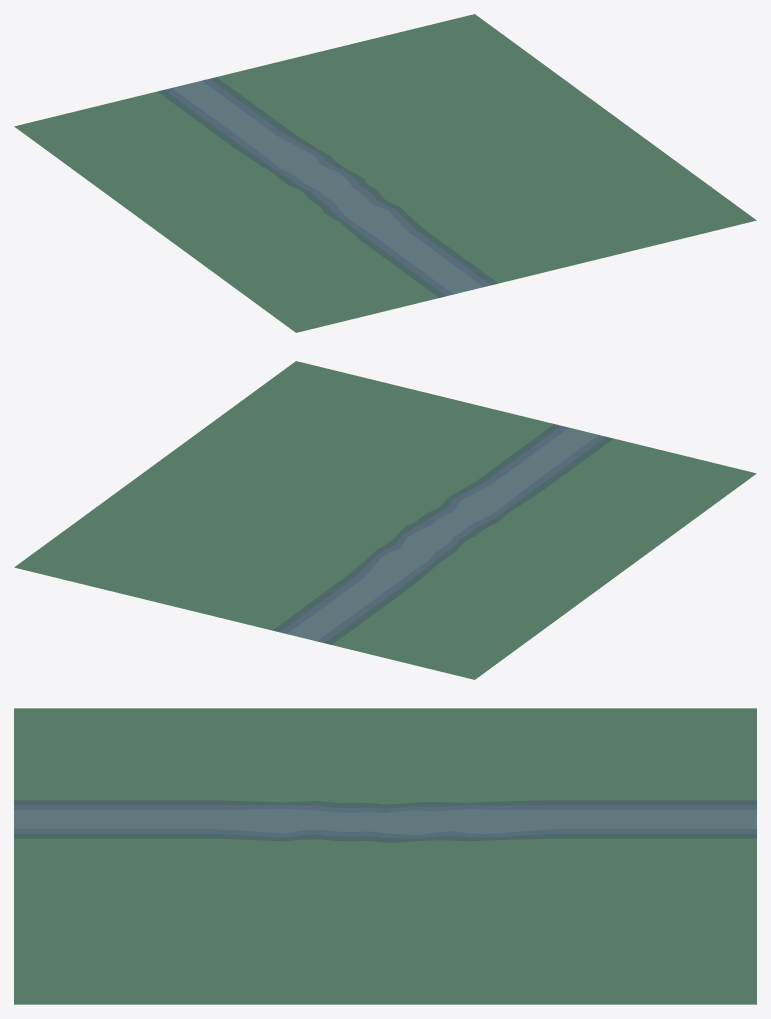
File: ground.fbx
3 views of the same model, one above another, from view 1: azimuth 30°, elevation 25°; view 2: azimuth 150°, elevation 25°; view 3: azimuth 270°, elevation 25° (orthographic). The views are drawn at different scales.
Parts seen in each view (by area): view 1: pCube2; view 2: pCube2; view 3: pCube2.
Boxes of the visible parts, x1,y1,x2,y2 form: pCube2: [14, 14, 756, 332]; pCube2: [14, 361, 756, 679]; pCube2: [14, 708, 756, 1004].
Size of the model in its own units: 1406 by 0 by 1490.
